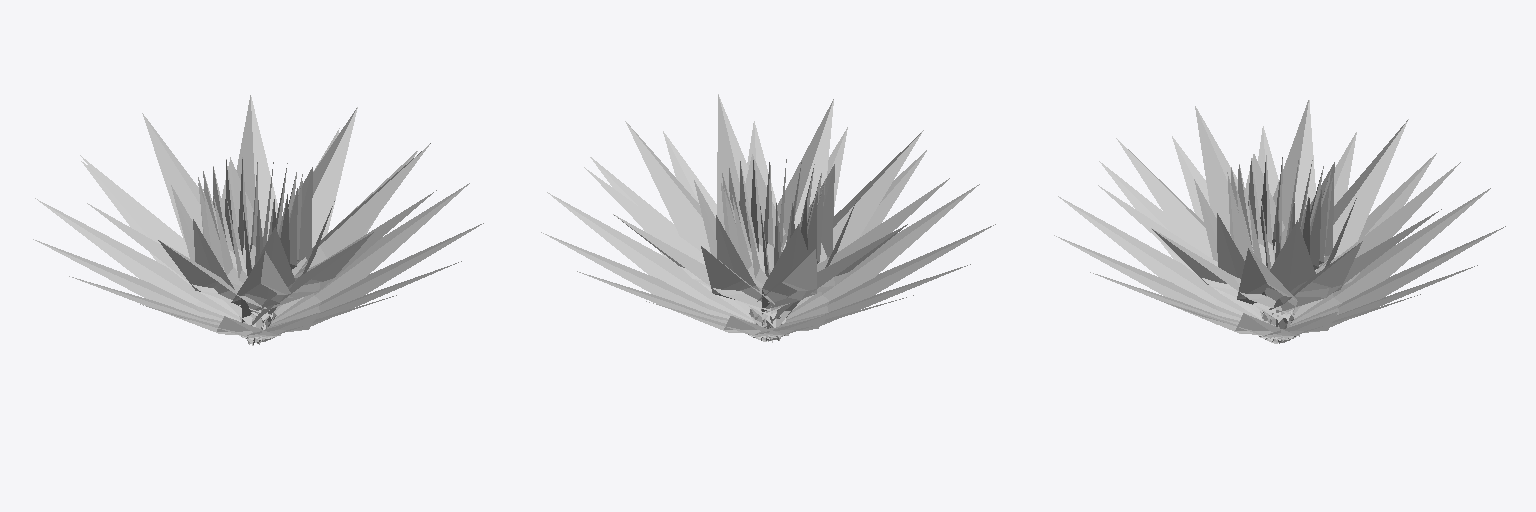
Rendered from lilly.obj.
The picture shows the model from 3 angles: view 1: azimuth 30°, elevation 25°; view 2: azimuth 150°, elevation 25°; view 3: azimuth 270°, elevation 25°; orthographic projection.
Parts seen in each view (by area): view 1: Obj_000002, Obj_000001, Obj_000003; view 2: Obj_000002, Obj_000001, Obj_000003; view 3: Obj_000002, Obj_000001, Obj_000003.
Part boxes in pixels (x1,y1,x2,y2): Obj_000002: (33,95,483,342); Obj_000001: (198,157,302,286); Obj_000003: (171,157,334,345); Obj_000002: (541,94,995,341); Obj_000001: (721,159,825,310); Obj_000003: (694,154,856,342); Obj_000002: (1054,100,1505,343); Obj_000001: (1227,155,1332,270); Obj_000003: (1194,154,1356,327).
Size of the model in its own units: 35.02 by 14.53 by 35.